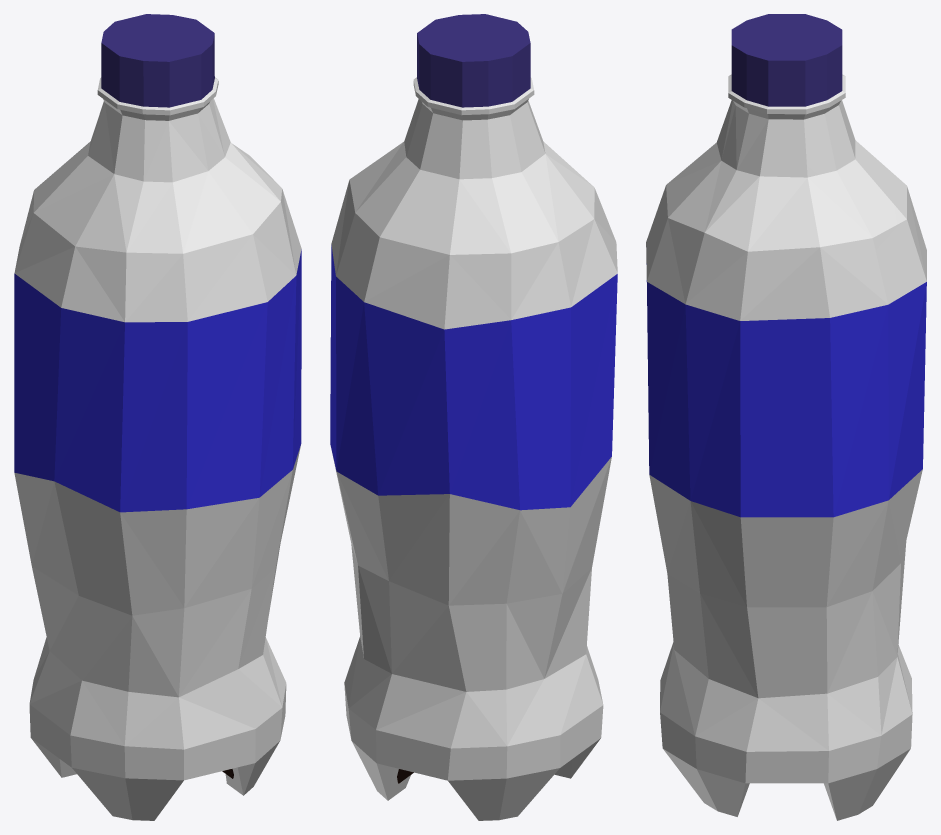
The model's file is bottleOfCola1.fbx.
3 views of the same model, side by side, from view 1: azimuth 30°, elevation 25°; view 2: azimuth 150°, elevation 25°; view 3: azimuth 270°, elevation 25° (orthographic).
Parts seen in each view (by area): view 1: Bottle; view 2: Bottle; view 3: Bottle.
Part boxes in pixels (x1,y1,x2,y2): Bottle: (14,14,301,820); Bottle: (330,14,617,820); Bottle: (646,14,926,820).
Size of the model in its own units: 148 by 434 by 148.
